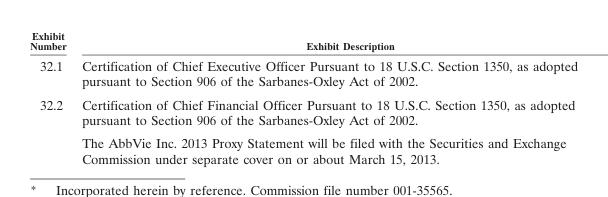table: (29, 28, 577, 166)
table column: (73, 28, 577, 166), (29, 28, 73, 166)
table column header: (29, 28, 577, 54)
table row: (29, 92, 577, 131), (29, 54, 577, 92), (29, 131, 577, 166), (29, 28, 577, 54)
table spanning cell: (29, 92, 73, 166)
